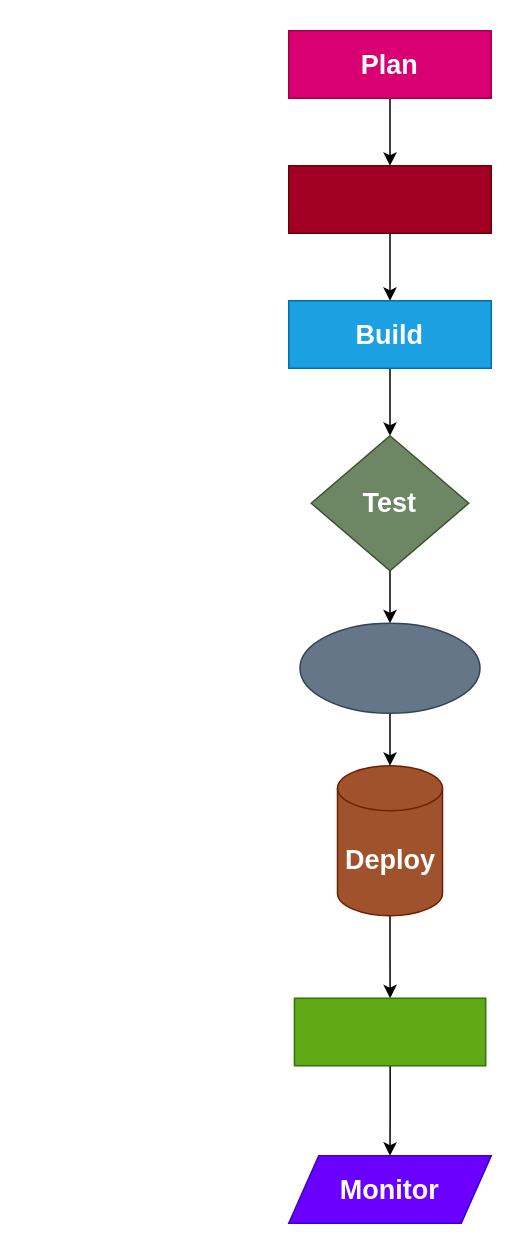
This 518x1253 diagram has some shape labels left out. Here are the shapes that lost their labels. From the top down, the centre of each, then its label:
At [389,198]: "Develop".
At [389,667]: "Release".
At [389,1031]: "Rectangle".
